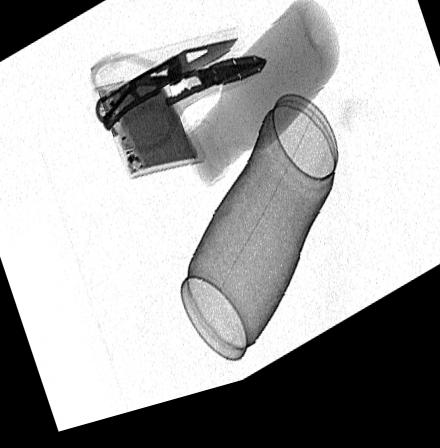Knife: (94, 51, 239, 130)
Powerbank: (92, 87, 202, 189)
Scissors: (88, 58, 267, 164)
